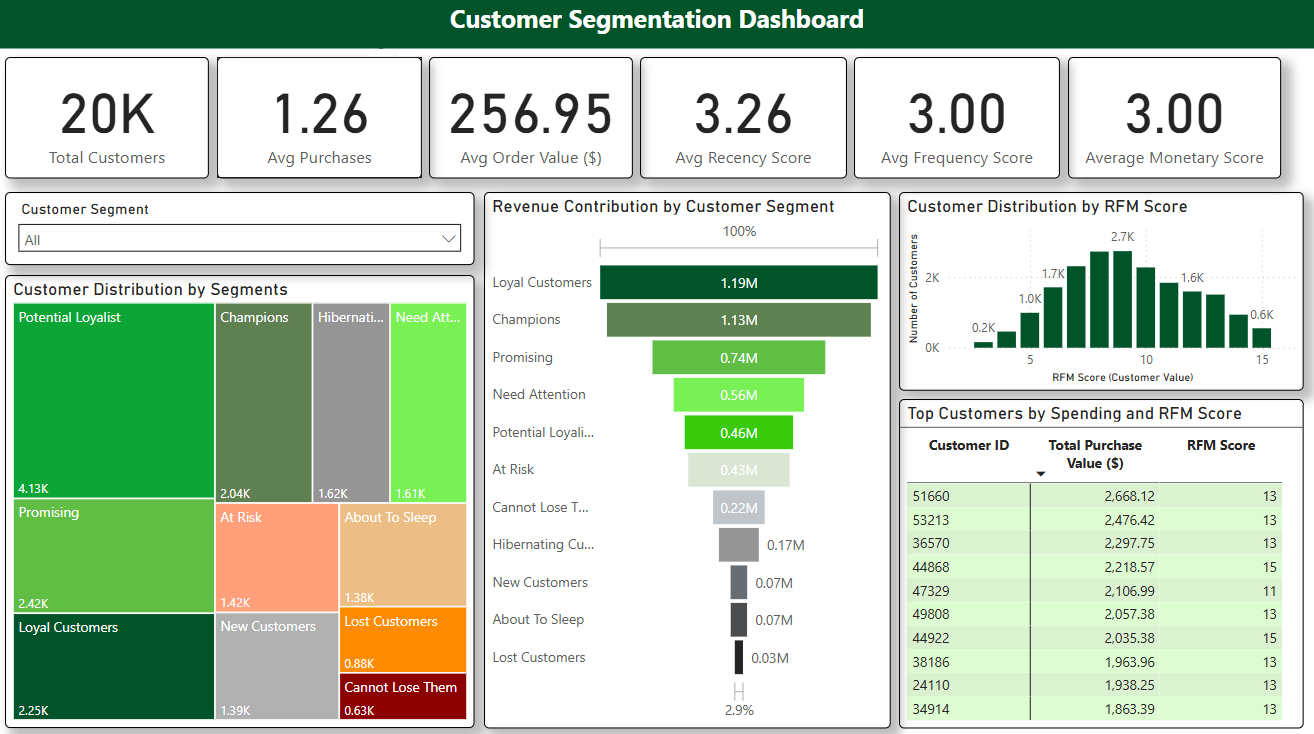

This screenshot's page, from the dashboard's own definition file:
{"tool":"powerbi","page":{"name":"Page 1","canvas":[1280,720],"ordinal":0},"visuals":[{"type":"clusteredColumnChart","title":"Customer Distribution by RFM Score","fields":{"Category":["rfm_analysis.RFM_Score"],"Y":["CountNonNull(rfm_analysis.customer_id)"]},"box":[875,190.3,393.3,193.3],"z":0},{"type":"pivotTable","title":"Top Customers by Spending and RFM Score","fields":{"Rows":["rfm_analysis.customer_id"],"Values":["Sum(rfm_analysis.monetary)","Sum(rfm_analysis.RFM_Score)"]},"box":[875,391.4,393.3,319.5],"z":1000},{"type":"treemap","title":"Customer Distribution by Segments","fields":{"Group":["rfm_analysis.CustomerSegment"],"Values":["CountNonNull(rfm_analysis.customer_id)"]},"box":[6.8,271,456.4,439.9],"z":2000},{"type":"card","fields":{"Values":["Avg(rfm_analysis.R_score)"]},"box":[623.5,59.2,201,117.5],"z":3000},{"type":"card","fields":{"Values":["Avg(rfm_analysis.M_score)"]},"box":[1039.2,59.2,206.9,117.5],"z":4000},{"type":"card","fields":{"Values":["Avg(rfm_analysis.F_score)"]},"box":[831.3,59.2,200.1,117.5],"z":5000},{"type":"card","fields":{"Values":["rfm_analysis.TotalCustomers"]},"box":[6.8,59.2,198.1,117.5],"z":6000},{"type":"card","fields":{"Values":["rfm_analysis.AvgOrderValue"]},"box":[418.6,59.2,198.1,117.5],"z":7000},{"type":"card","fields":{"Values":["rfm_analysis.AvgPurchases"]},"box":[212.7,59.2,199.1,117.5],"z":8000},{"type":"textbox","box":[0,0,1280,50.5],"z":9000},{"type":"funnel","title":"Revenue Contribution by Customer Segment","fields":{"Category":["rfm_analysis.CustomerSegment"],"Y":["Sum(rfm_analysis.monetary)"]},"box":[472,190.3,395.3,520.5],"z":10000},{"type":"slicer","fields":{"Values":["rfm_analysis.CustomerSegment"]},"box":[6.8,190.3,456.4,70.9],"z":10001}]}

Visuals, with their boxes in screenshot pixels (x1, y1, x2, y2), scaled from the page's 1280x720 canvas onto the 1314x734 screenshot:
"Customer Distribution by RFM Score" clusteredColumnChart: {"x1": 898, "y1": 194, "x2": 1302, "y2": 391}
"Top Customers by Spending and RFM Score" pivotTable: {"x1": 898, "y1": 399, "x2": 1302, "y2": 725}
"Customer Distribution by Segments" treemap: {"x1": 7, "y1": 276, "x2": 476, "y2": 725}
card - Avg(rfm_analysis.R_score): {"x1": 640, "y1": 60, "x2": 846, "y2": 180}
card - Avg(rfm_analysis.M_score): {"x1": 1067, "y1": 60, "x2": 1279, "y2": 180}
card - Avg(rfm_analysis.F_score): {"x1": 853, "y1": 60, "x2": 1059, "y2": 180}
card - rfm_analysis.TotalCustomers: {"x1": 7, "y1": 60, "x2": 210, "y2": 180}
card - rfm_analysis.AvgOrderValue: {"x1": 430, "y1": 60, "x2": 633, "y2": 180}
card - rfm_analysis.AvgPurchases: {"x1": 218, "y1": 60, "x2": 423, "y2": 180}
textbox: {"x1": 0, "y1": 0, "x2": 1313, "y2": 51}
"Revenue Contribution by Customer Segment" funnel: {"x1": 485, "y1": 194, "x2": 890, "y2": 725}
slicer - rfm_analysis.CustomerSegment: {"x1": 7, "y1": 194, "x2": 476, "y2": 266}
